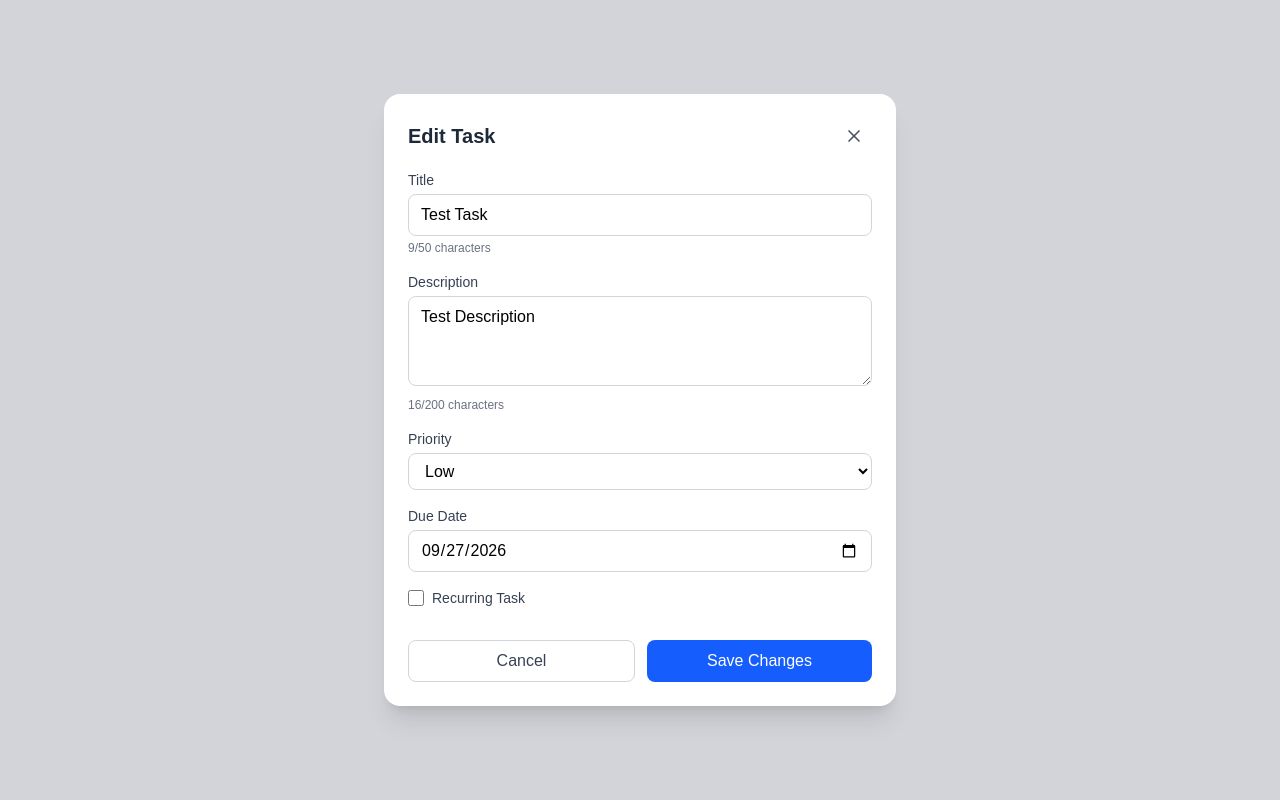
Test: Edit Task › should show/hide recurring interval input when toggling recurring checkbox
Click the checkbox labelled "Recurring Task": (416, 598) [408, 590, 424, 606]
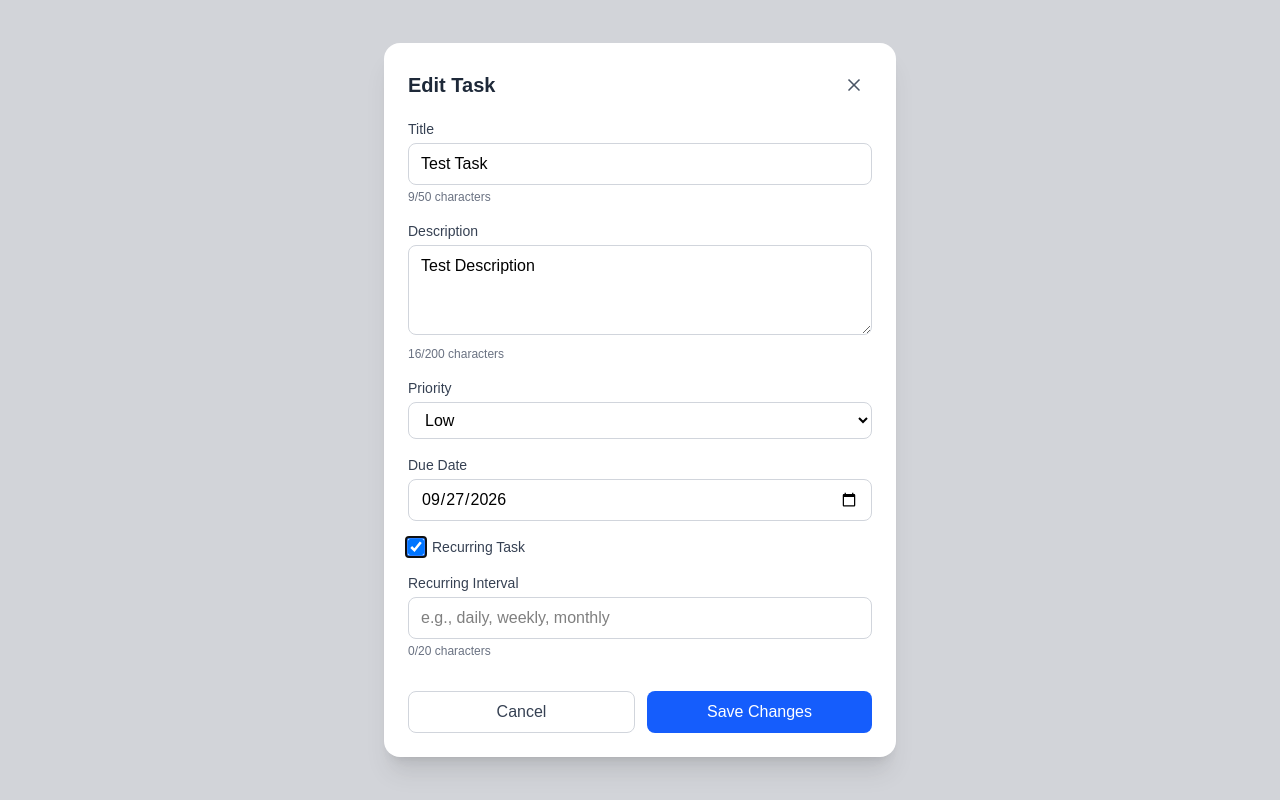
Check: the field labelled "Recurring Interval" is shown, box [408, 597, 872, 639]
